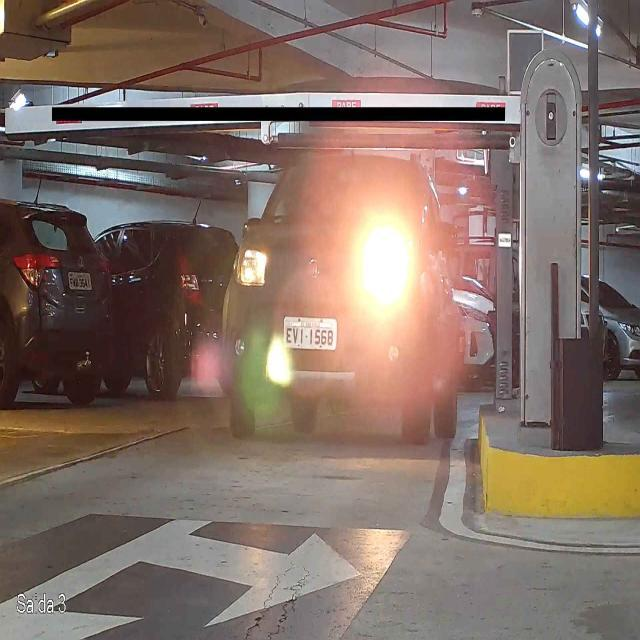old_plate: (280, 315, 340, 352)
